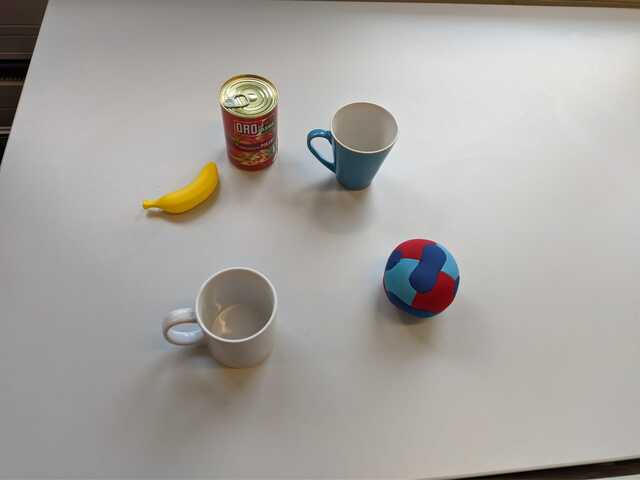005_tomato_soup_can: (217, 73, 280, 172)
011_banana: (142, 162, 220, 214)
025_mug: (160, 266, 280, 369), (307, 102, 400, 190)
057_racquetball: (381, 237, 461, 319)
